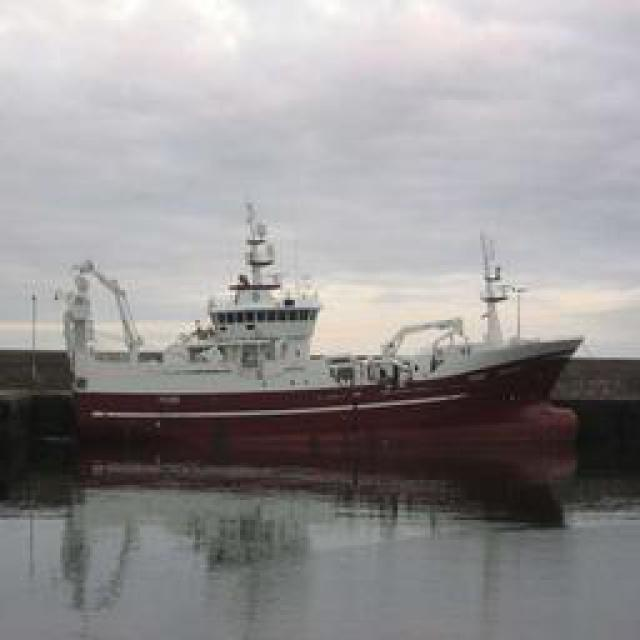Ship: (67, 201, 585, 446)
